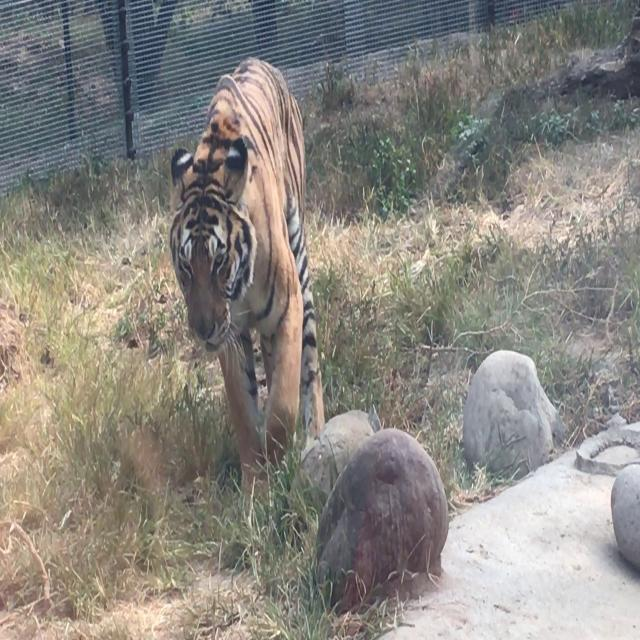Tiger: (165, 33, 348, 456)
